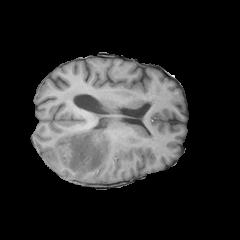glioma: (44, 128, 122, 180)
